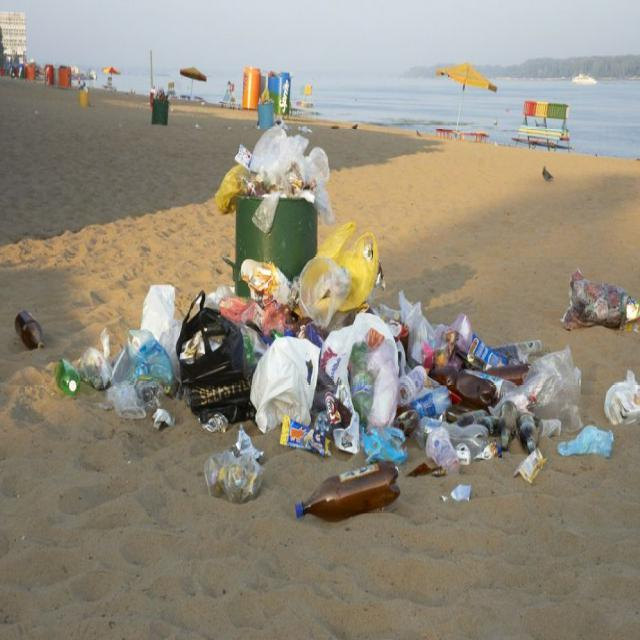trash: (175, 222, 584, 536), (56, 282, 179, 447), (205, 121, 342, 227), (562, 259, 640, 341), (595, 360, 640, 430), (7, 299, 56, 355)
